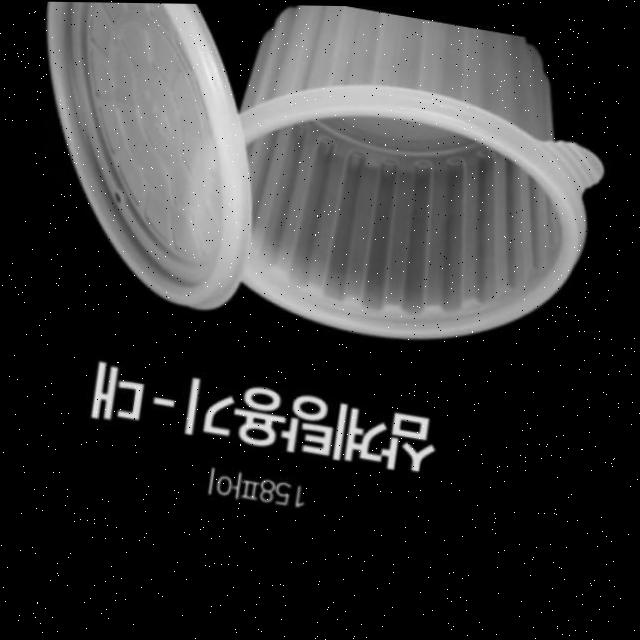disposable: (0, 0, 630, 347)
